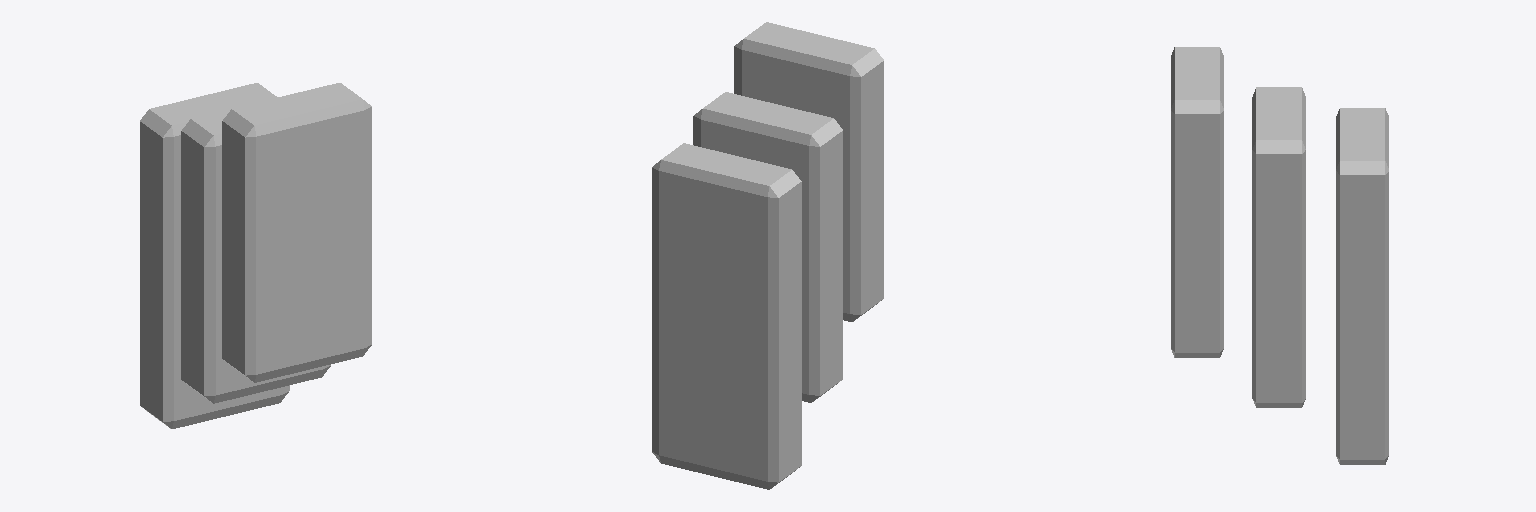
The model's file is artifact_speed.obj.
3 views of the same model, side by side, from view 1: azimuth 30°, elevation 25°; view 2: azimuth 150°, elevation 25°; view 3: azimuth 270°, elevation 25° (orthographic).
Visible parts, largest first — view 1: Cube_Cube.001; view 2: Cube_Cube.001; view 3: Cube_Cube.001.
Boxes of the visible parts, x1,y1,x2,y2 form: Cube_Cube.001: [140, 83, 371, 428]; Cube_Cube.001: [652, 22, 883, 489]; Cube_Cube.001: [1171, 47, 1388, 464].
Size of the model in its own units: 2 by 5.48 by 2.98.